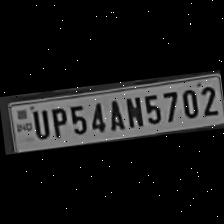0: (176, 84, 199, 119)
2: (196, 81, 218, 118)
4: (84, 98, 107, 134)
5: (64, 101, 88, 136), (140, 90, 162, 126)
7: (158, 88, 180, 122)
A: (101, 96, 125, 132)
N: (120, 94, 144, 130)
P: (46, 104, 68, 138)
U: (27, 106, 50, 140)
